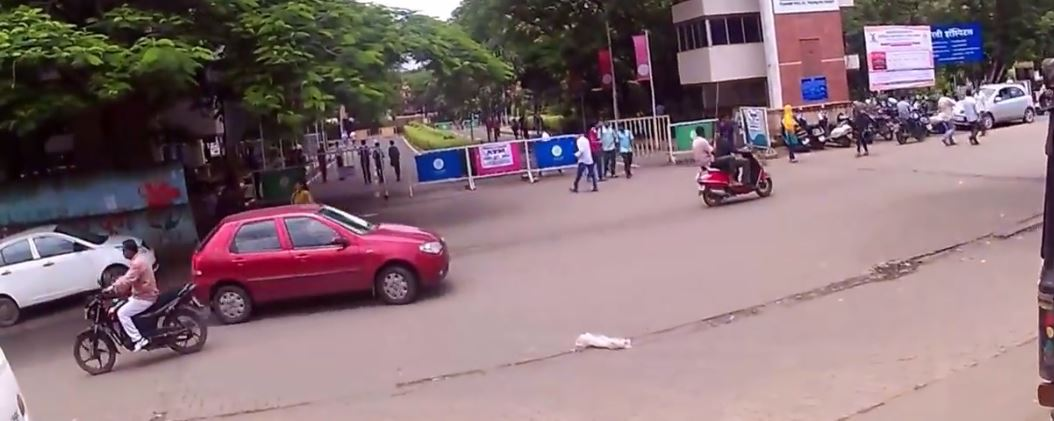car: (185, 196, 459, 346), (1, 214, 166, 332), (981, 71, 1040, 140)
